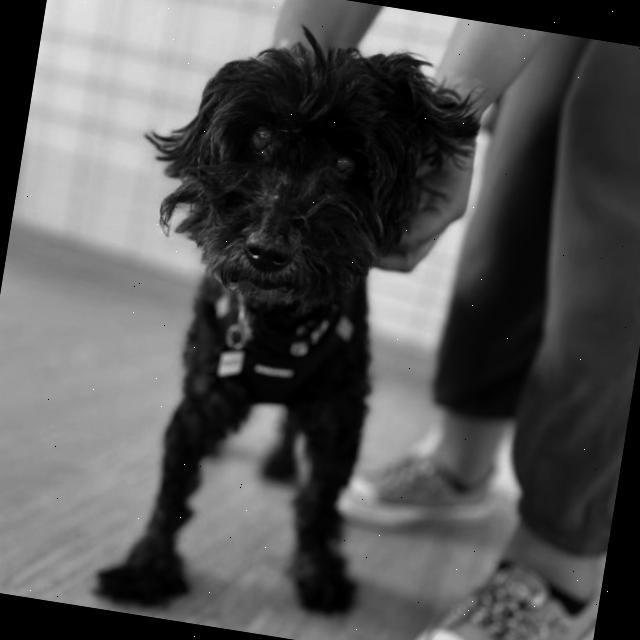Poodle_dog: (106, 5, 498, 363)
